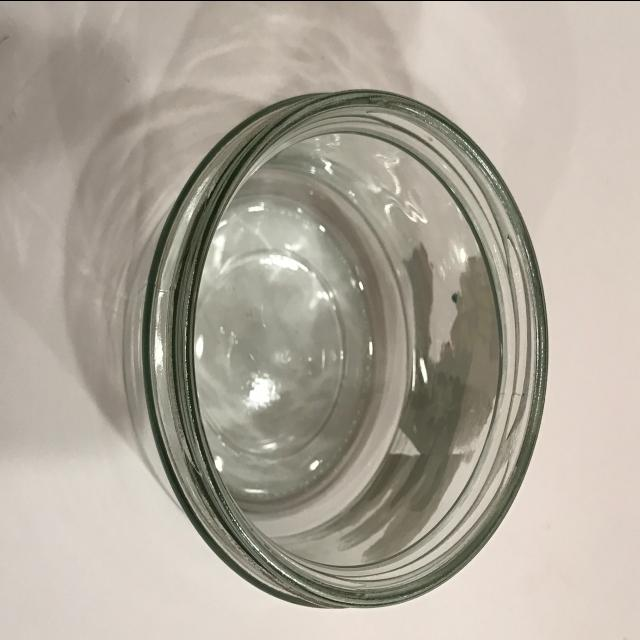glass: (90, 74, 560, 626)
